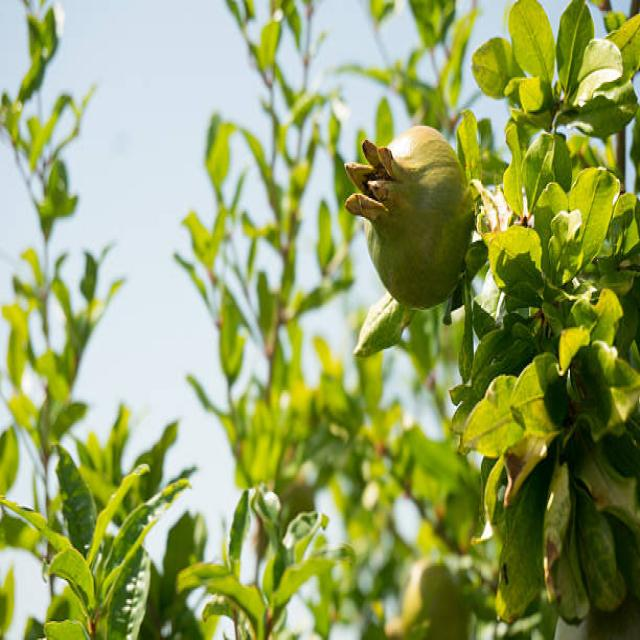Unripe: (345, 122, 474, 311)
